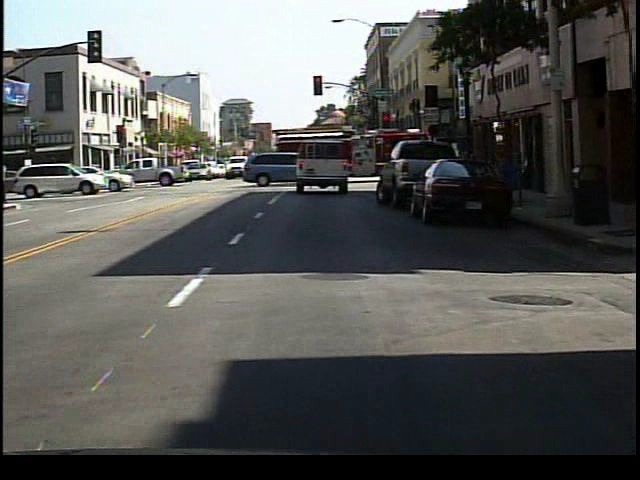person: (2, 158, 16, 210)
